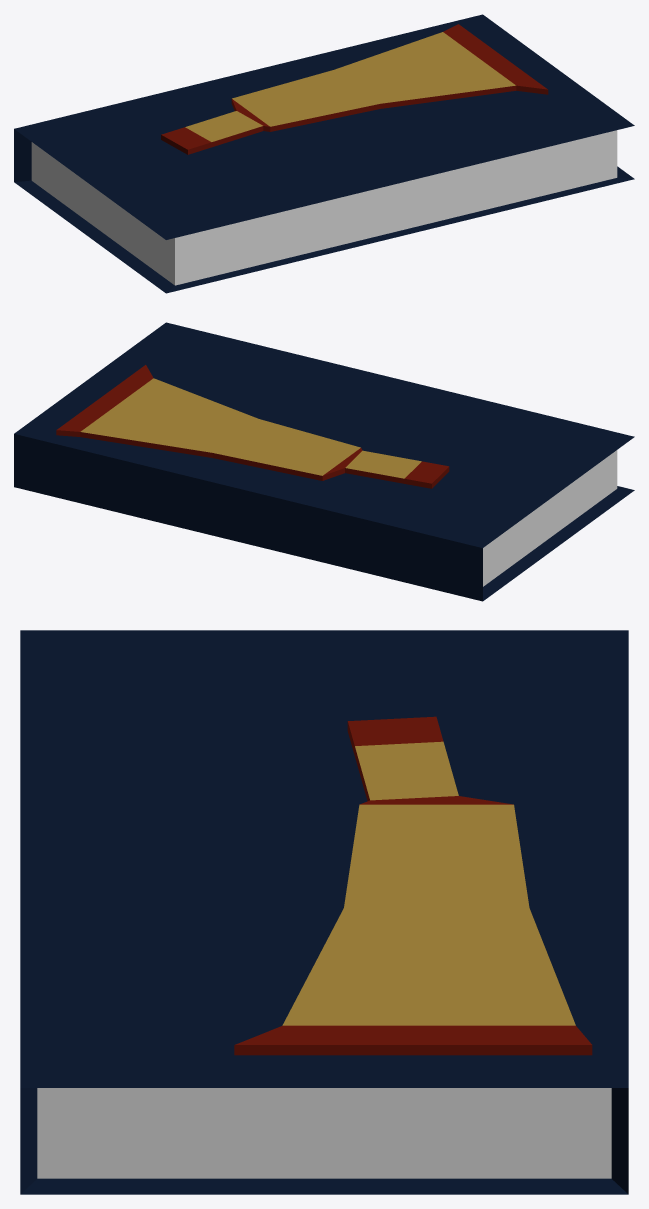
File: SM_King_Book.fbx
3 views of the same model, one above another, from view 1: azimuth 30°, elevation 25°; view 2: azimuth 150°, elevation 25°; view 3: azimuth 270°, elevation 25° (orthographic). The views are drawn at different scales.
Parts seen in each view (by area): view 1: King_Book; view 2: King_Book; view 3: King_Book.
Boxes of the visible parts, box(x1,y1,x2,y2) form: King_Book: box(14, 14, 634, 293); King_Book: box(14, 322, 634, 601); King_Book: box(20, 630, 628, 1194).
Size of the model in its own units: 57.6 by 6.87 by 32.37.
